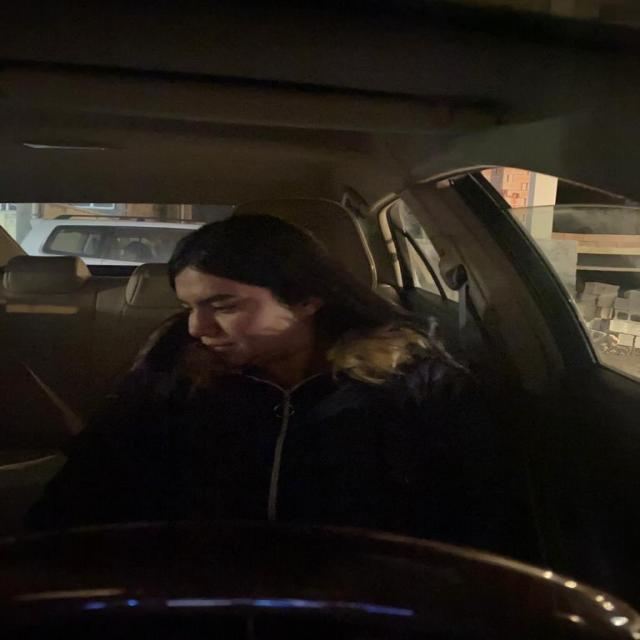LeftRight: (157, 219, 338, 384)
